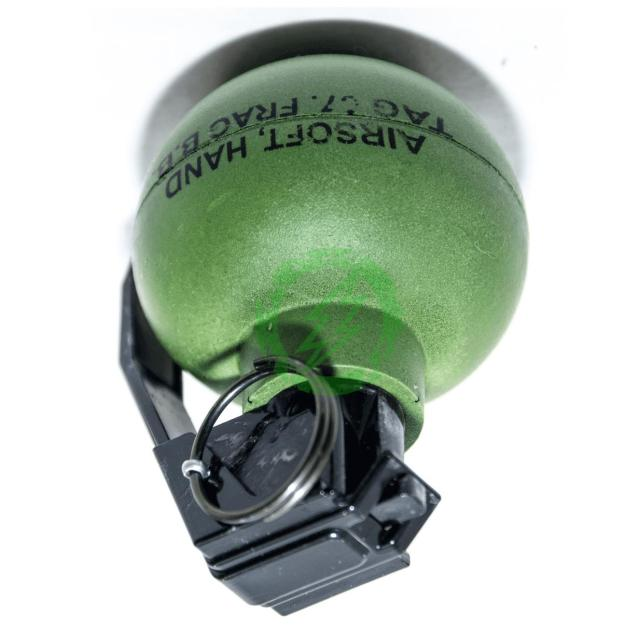grenade: (118, 54, 531, 617)
